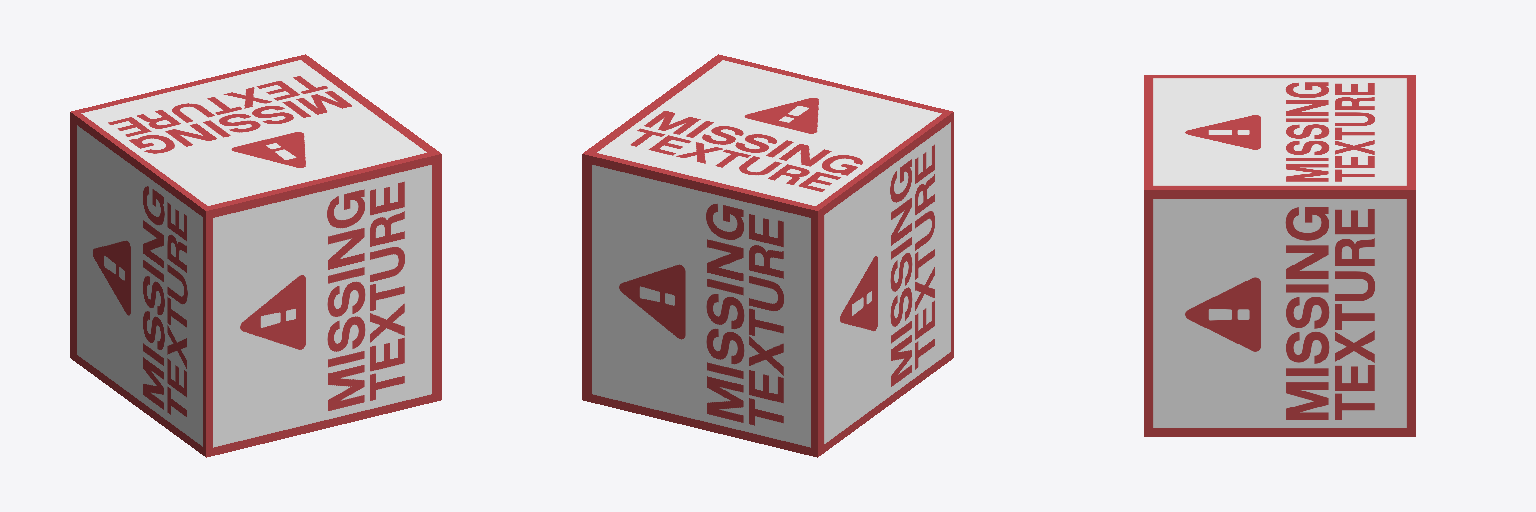
The picture shows the model from 3 angles: view 1: azimuth 30°, elevation 25°; view 2: azimuth 150°, elevation 25°; view 3: azimuth 270°, elevation 25°; orthographic projection.
Visible parts, largest first — view 1: Cube; view 2: Cube; view 3: Cube.
Part boxes in pixels (left/top/right/bottom): Cube: left=70, top=54, right=441, bottom=457; Cube: left=582, top=54, right=953, bottom=457; Cube: left=1144, top=75, right=1415, bottom=436.
Size of the model in its own units: 2 by 2 by 2.
1 materials, 1 textured.